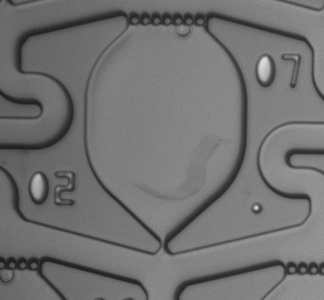AptNum: (248, 49, 310, 94)
Marker: (241, 195, 271, 222)
StNum: (21, 165, 83, 215)
Trap: (142, 244, 186, 286)
